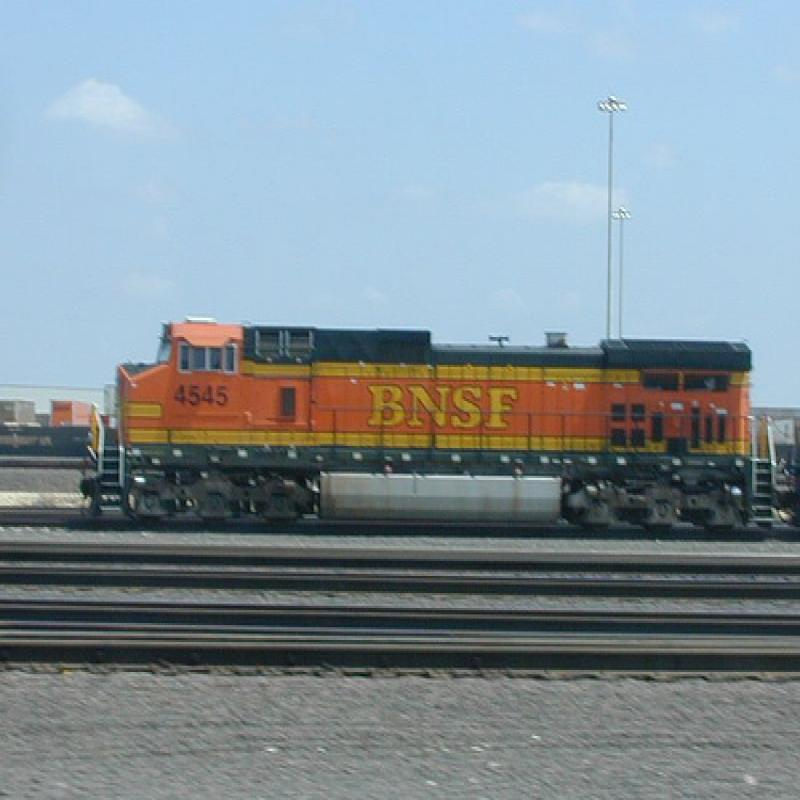train: (73, 304, 777, 545)
